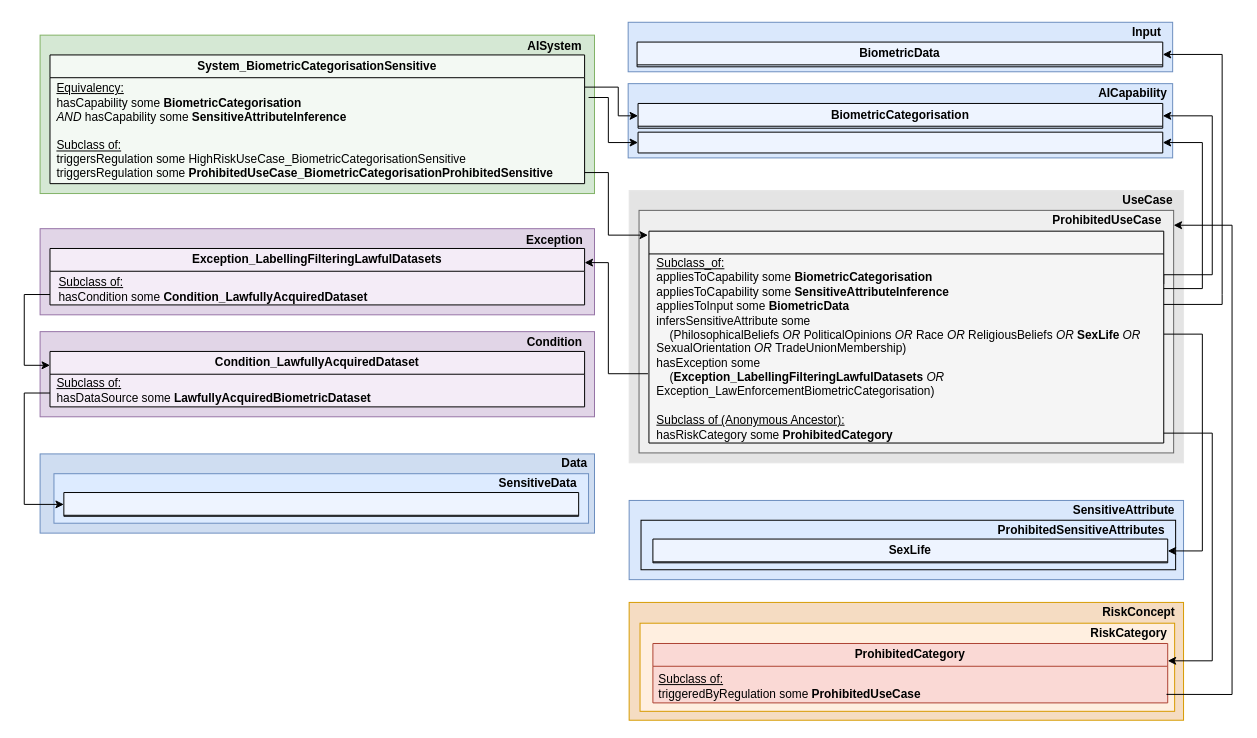
The diagram is 1257 pixels wide and 738 high, and some of its shapes have lost their labels. Here are the shapes that lost their labels. From the top down, the box of each, then its label:
(637, 131, 1163, 153): SensitiveAttributeInference
(648, 230, 1164, 443): ProhibitedUseCase_BiometricCategorisation ProhibitedSensitive
(63, 492, 579, 516): LawfullyAcquiredBiometricDataset
